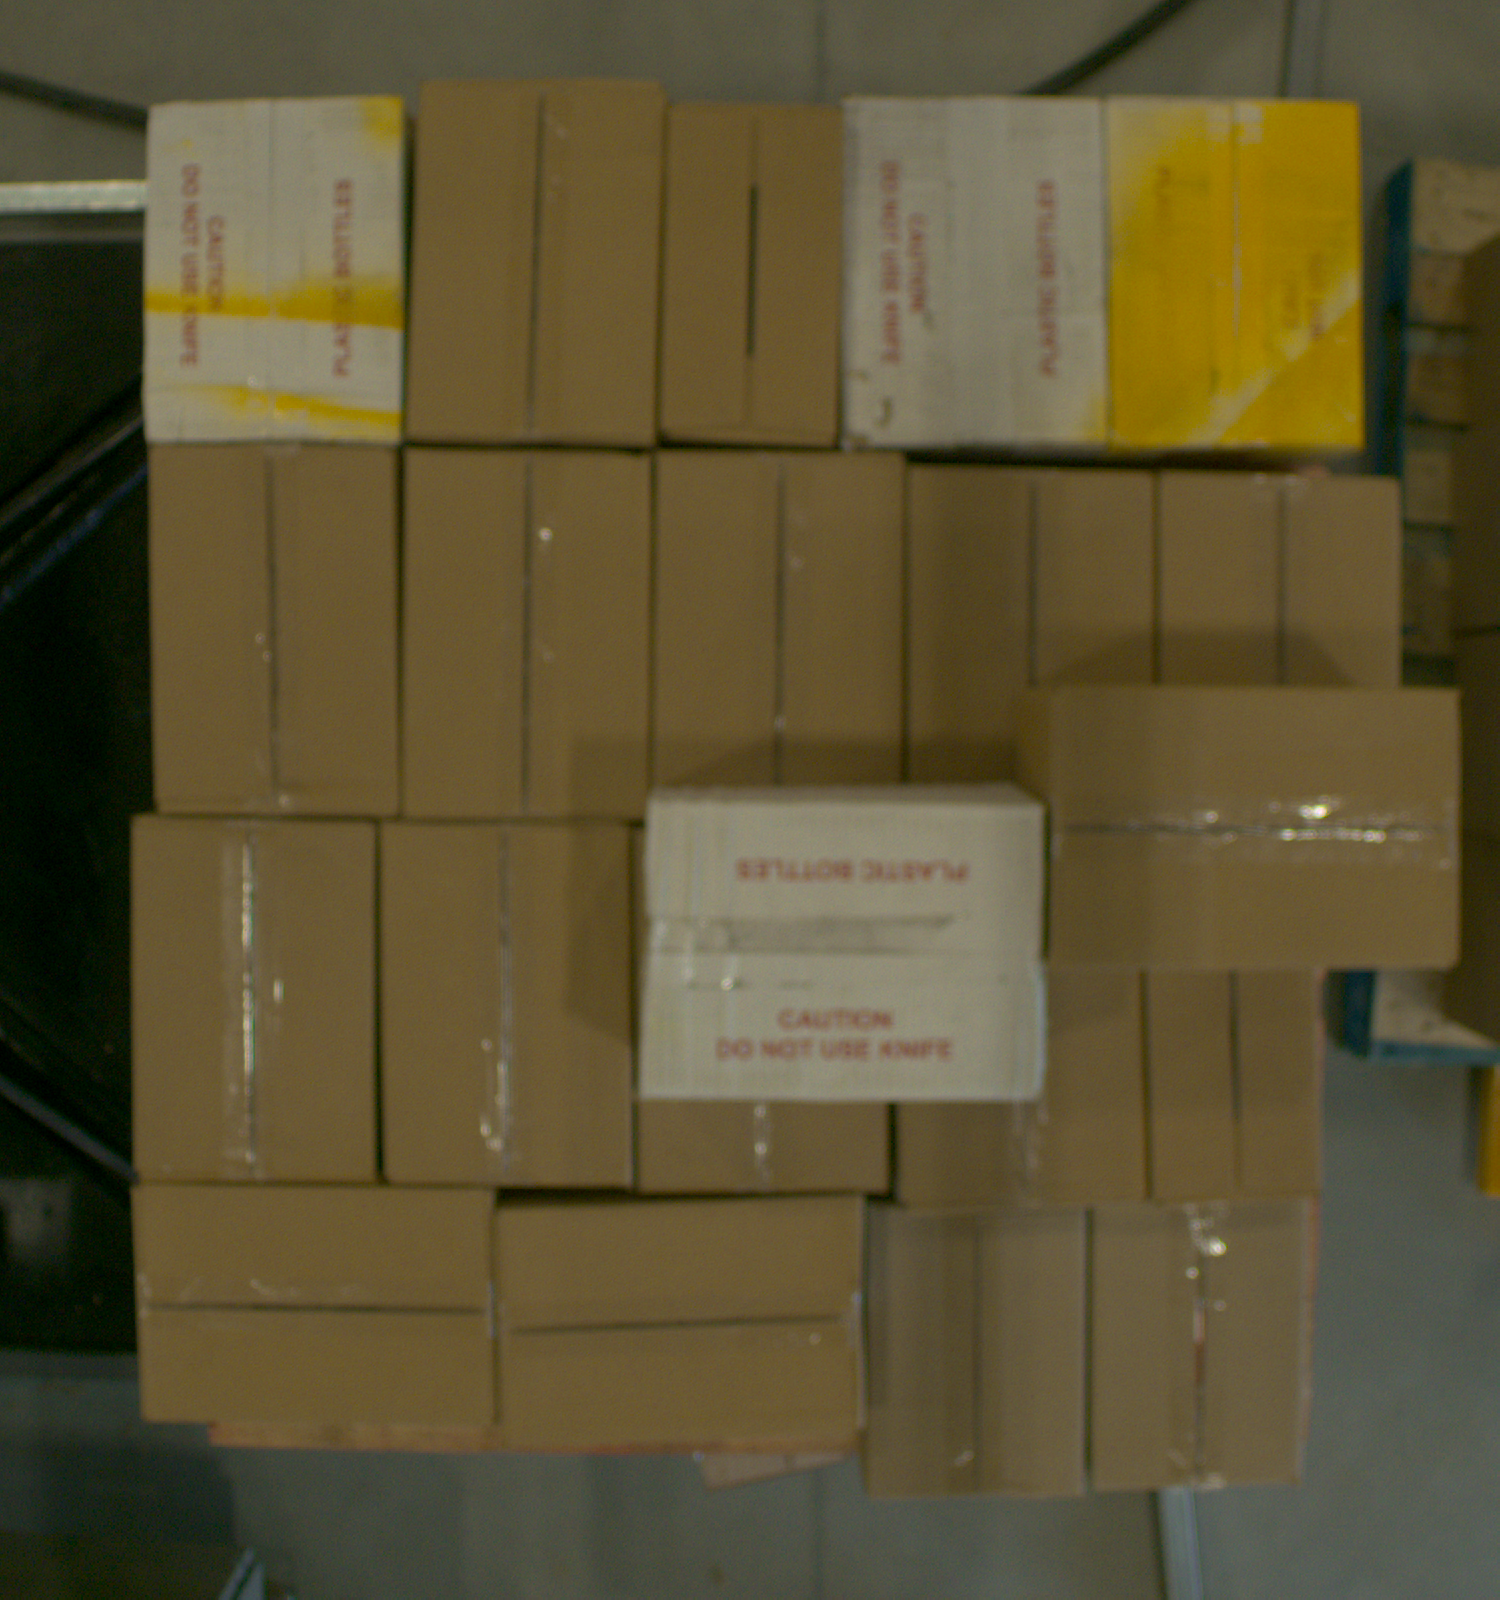box top: (639, 804, 1047, 1107), (1055, 692, 1463, 968), (410, 78, 664, 443), (142, 97, 405, 445), (844, 99, 1105, 448), (149, 451, 400, 811), (403, 453, 648, 818), (1109, 97, 1363, 450), (500, 1200, 861, 1446), (381, 827, 629, 1186), (134, 823, 376, 1183), (133, 1188, 495, 1427), (660, 454, 905, 787), (909, 469, 1152, 781), (864, 1207, 1088, 1501), (660, 101, 846, 445), (1095, 1207, 1305, 1489), (898, 973, 1143, 1207), (1162, 476, 1400, 688), (1150, 970, 1325, 1198), (641, 1105, 887, 1193)
